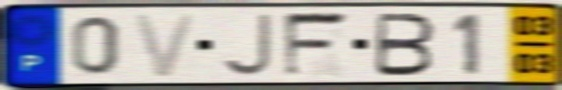0: (67, 13, 126, 79)
1: (451, 11, 482, 77)
B: (371, 11, 439, 78)
F: (281, 9, 353, 80)
J: (218, 12, 273, 78)
V: (129, 11, 201, 79)
